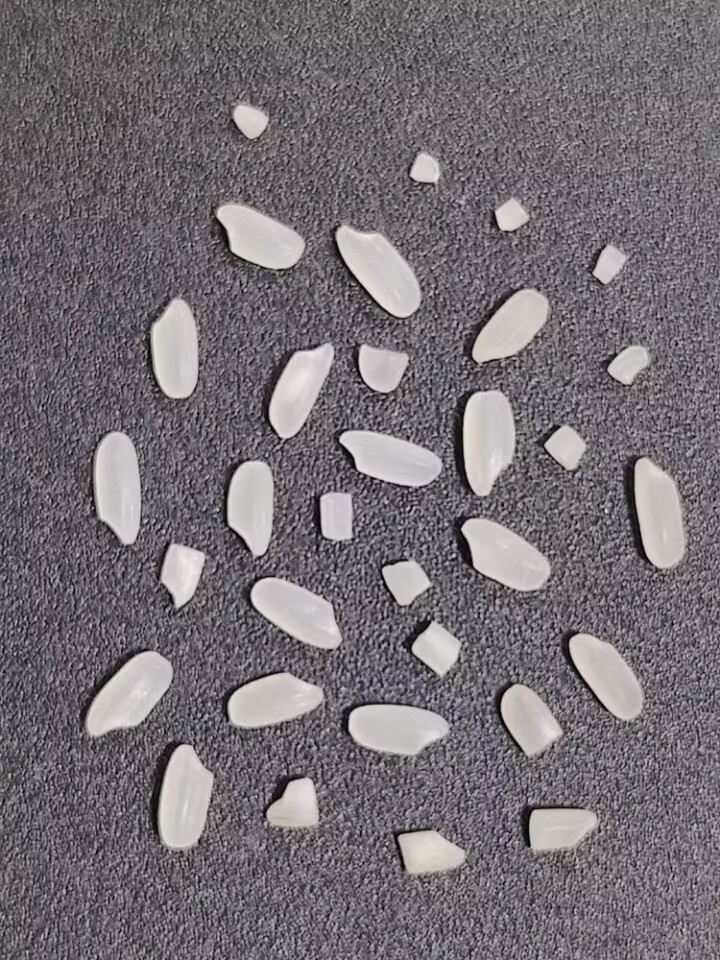broken: (498, 682, 564, 758), (157, 541, 208, 610), (525, 804, 598, 852), (353, 342, 412, 400), (261, 775, 323, 830), (409, 618, 463, 680), (395, 829, 467, 875), (379, 556, 433, 612), (542, 421, 590, 474), (606, 341, 655, 392), (314, 489, 356, 542), (588, 241, 631, 288), (490, 195, 532, 235), (402, 146, 445, 184), (231, 104, 269, 139)
rice: (335, 222, 422, 320), (83, 651, 175, 738), (567, 633, 647, 723), (460, 516, 552, 593), (250, 576, 345, 650), (268, 338, 335, 441), (156, 742, 217, 850), (469, 286, 550, 367), (90, 429, 145, 548), (632, 456, 688, 572), (225, 668, 325, 731), (338, 428, 442, 488), (461, 389, 517, 498), (215, 203, 306, 270), (146, 293, 201, 400), (345, 703, 450, 757), (225, 460, 276, 560)
